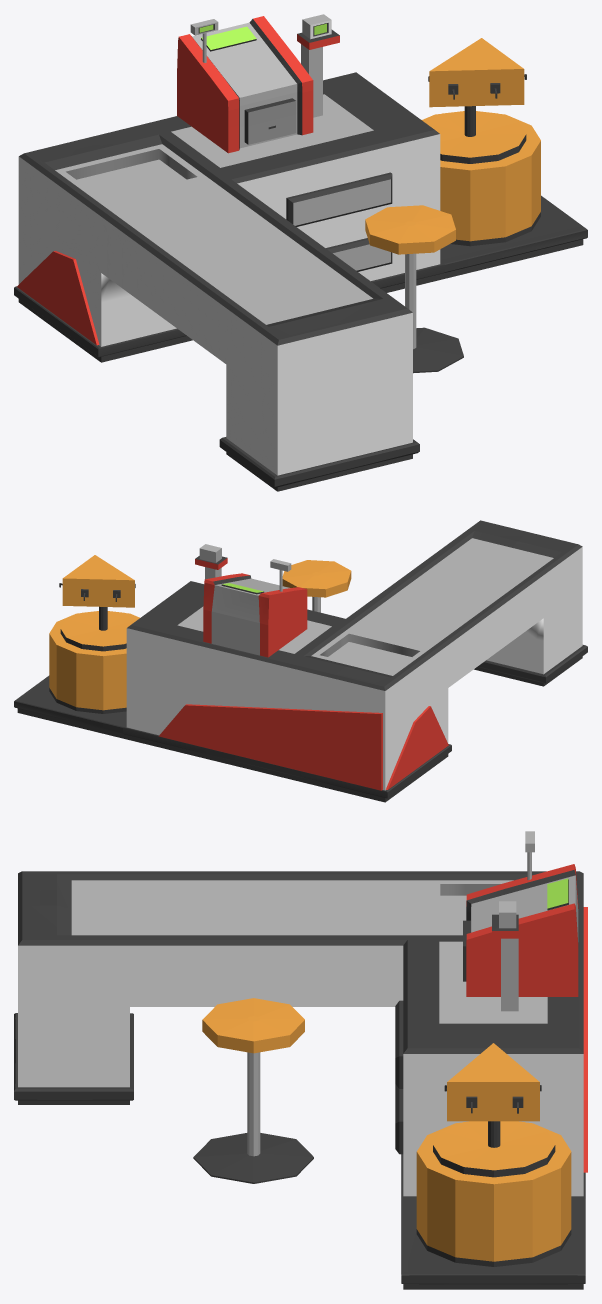
File: mostrador.fbx
3 views of the same model, one above another, from view 1: azimuth 30°, elevation 25°; view 2: azimuth 150°, elevation 25°; view 3: azimuth 270°, elevation 25° (orthographic). The views are drawn at different scales.
Visible parts, largest first — view 1: Mostrador, Cube.004; view 2: Mostrador, Cube.004; view 3: Mostrador, Cube.004.
Part boxes in pixels (<box>): Mostrador: <box>14,14,587,491</box>; Cube.004: <box>428,38,526,107</box>; Mostrador: <box>14,520,587,802</box>; Cube.004: <box>59,555,135,607</box>; Mostrador: <box>14,831,587,1289</box>; Cube.004: <box>444,1043,541,1121</box>.
Size of the model in its own units: 2401 by 1204 by 2227.
